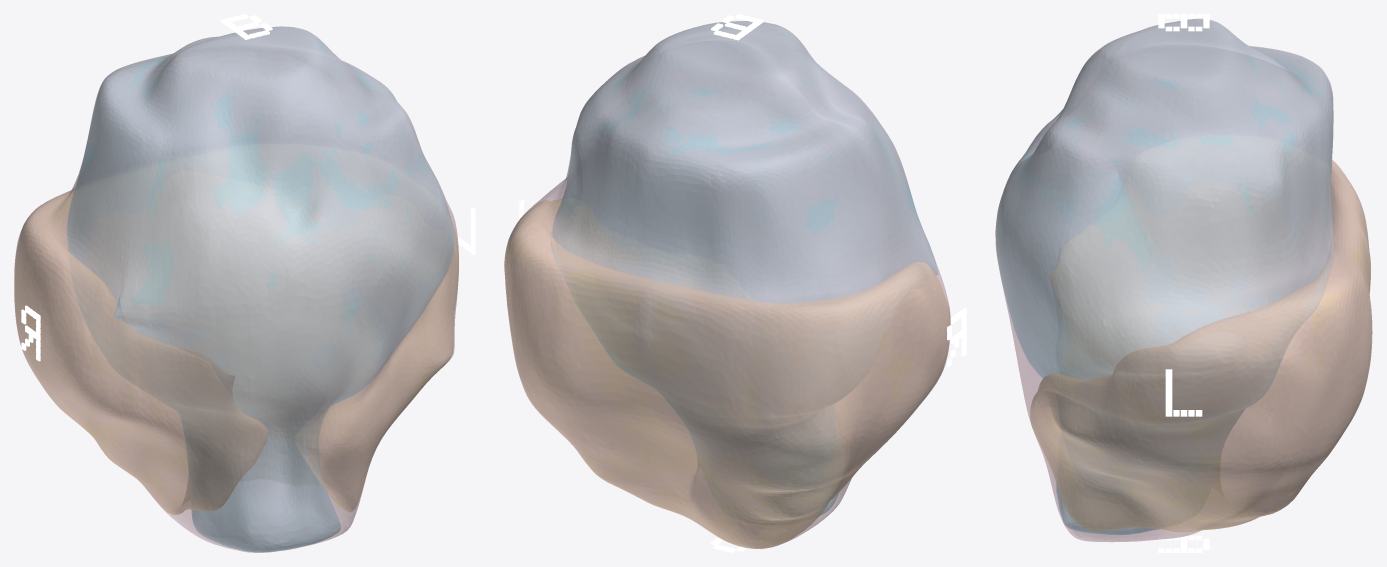
3 renders of one model, left to right at view 1: azimuth 30°, elevation 25°; view 2: azimuth 150°, elevation 25°; view 3: azimuth 270°, elevation 25°, orthographic. The views are drawn at different scales.
Parts seen in each view (by area): view 1: prostate_gland, transition_zone, peripheral_zone, pv_ar_marker_B, pv_ar_marker_R; view 2: prostate_gland, peripheral_zone, transition_zone, pv_ar_marker_B, pv_ar_marker_R; view 3: prostate_gland, transition_zone, peripheral_zone, pv_ar_marker_B, pv_ar_marker_L, pv_ar_marker_A.
Boxes of the visible parts, x1=… form: prostate_gland: x1=14, y1=26, x2=458, y2=552; transition_zone: x1=67, y1=26, x2=454, y2=551; peripheral_zone: x1=14, y1=190, x2=458, y2=514; pv_ar_marker_B: x1=220, y1=14, x2=272, y2=39; pv_ar_marker_R: x1=21, y1=305, x2=40, y2=361; prostate_gland: x1=504, y1=21, x2=950, y2=548; peripheral_zone: x1=504, y1=199, x2=950, y2=548; transition_zone: x1=551, y1=21, x2=937, y2=515; pv_ar_marker_B: x1=711, y1=14, x2=763, y2=40; pv_ar_marker_R: x1=947, y1=307, x2=966, y2=367; prostate_gland: x1=995, y1=18, x2=1372, y2=542; transition_zone: x1=996, y1=19, x2=1333, y2=534; peripheral_zone: x1=1030, y1=160, x2=1371, y2=531; pv_ar_marker_B: x1=1158, y1=14, x2=1209, y2=31; pv_ar_marker_L: x1=1165, y1=369, x2=1202, y2=416; pv_ar_marker_A: x1=1158, y1=535, x2=1209, y2=552.
Bounding box in the file's own units: 0.0564 × 0.0626 × 0.0408.
